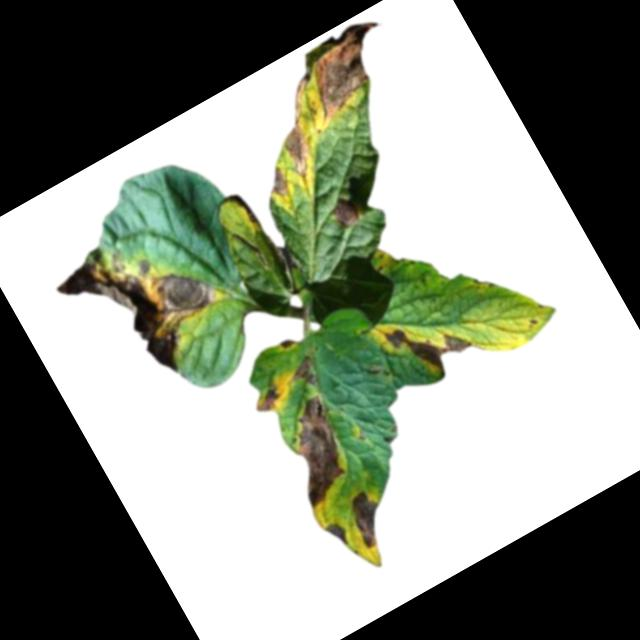Early_blight: (48, 211, 230, 387), (245, 15, 425, 180), (261, 390, 367, 509), (377, 294, 475, 386), (340, 484, 397, 551), (325, 191, 364, 232), (248, 383, 285, 418), (288, 354, 322, 391), (259, 164, 291, 200), (322, 518, 353, 551), (277, 334, 298, 352)
